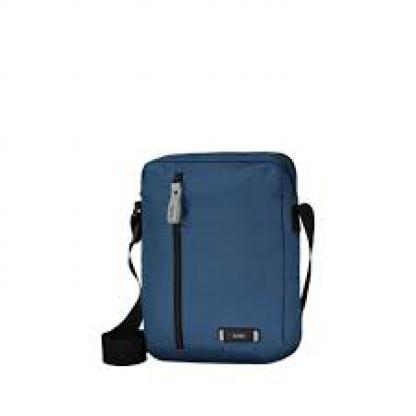morral: (92, 130, 333, 374)
